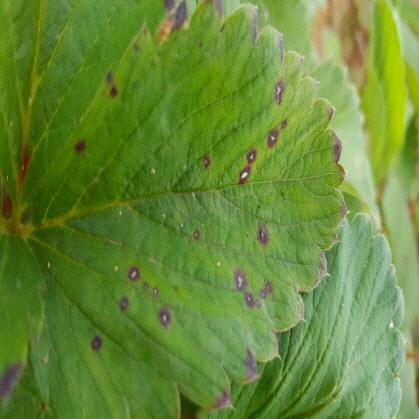Leaf Spot: (25, 0, 350, 418)
